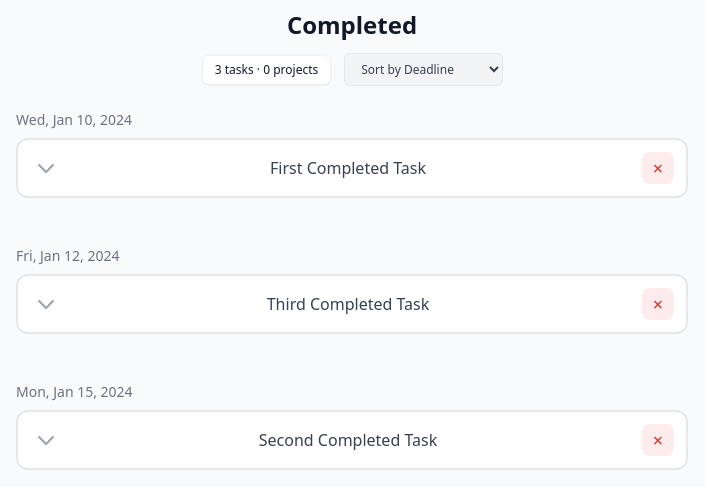
Test: TaskList - Completed Tasks Sorting › switching between sort methods updates task order correctly
Note: Switch to "recent"
Select "Recently Completed" in the dropdown at (424, 70), box [344,53,503,86]
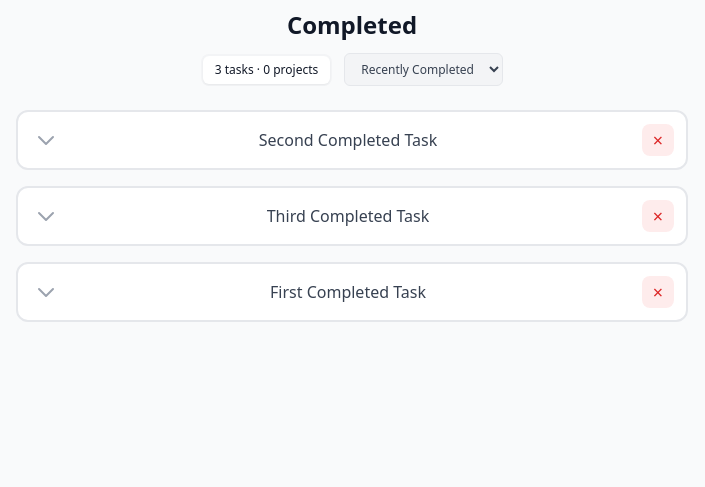
Note: Switch to "oldest"
Select "Oldest First" in the dropdown at (424, 70), box [344,53,503,86]
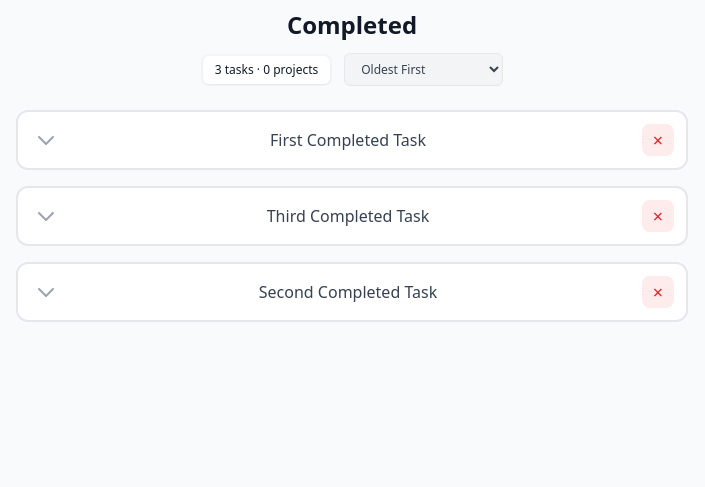
Expected: the text "First Completed Task" is shown, [270,128,426,152]
Note: Switch back to "group"
Select "Sort by Deadline" in the dropdown at (424, 70), box [344,53,503,86]
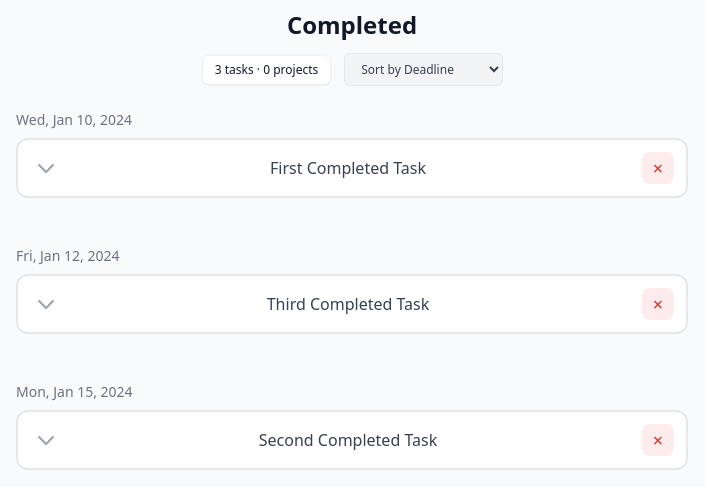
Expected: the text "Wed, Jan 10, 2024" is shown, [16,110,132,129]
